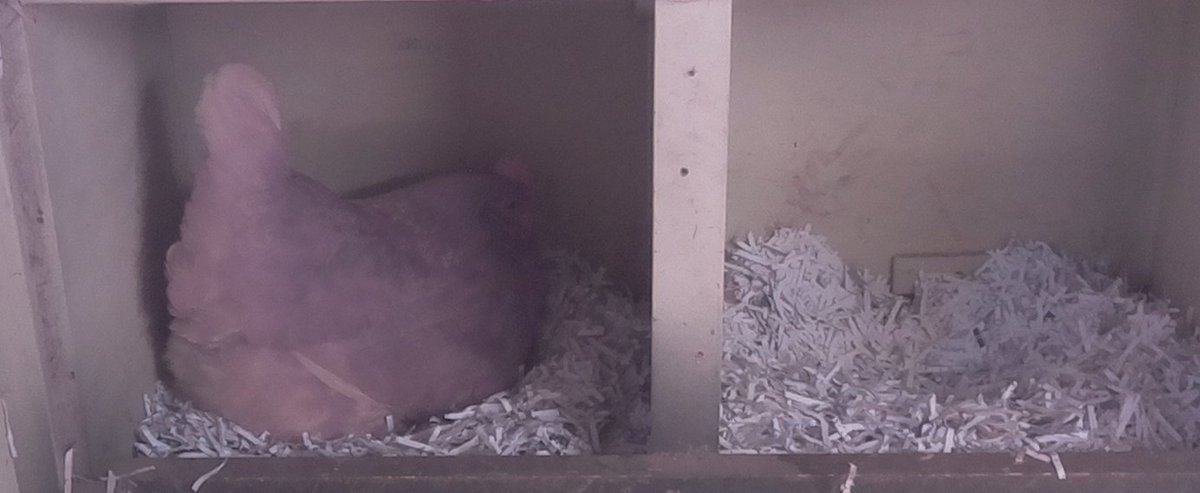hen: (162, 70, 554, 437)
